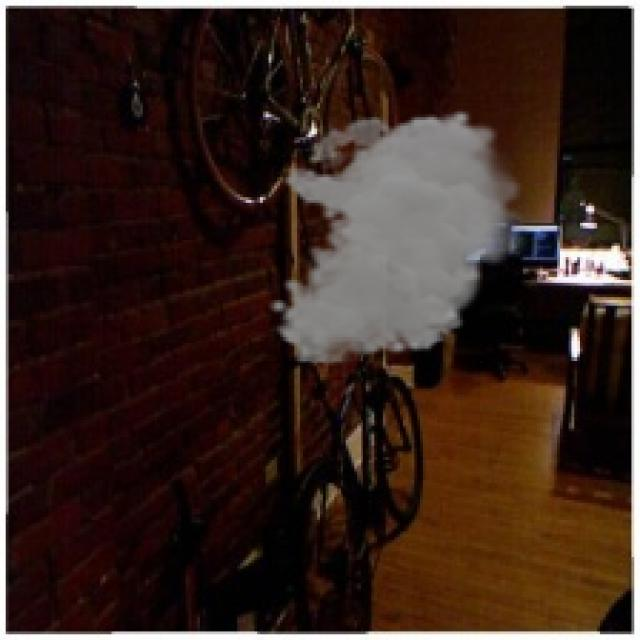smoke: (269, 108, 534, 366)
